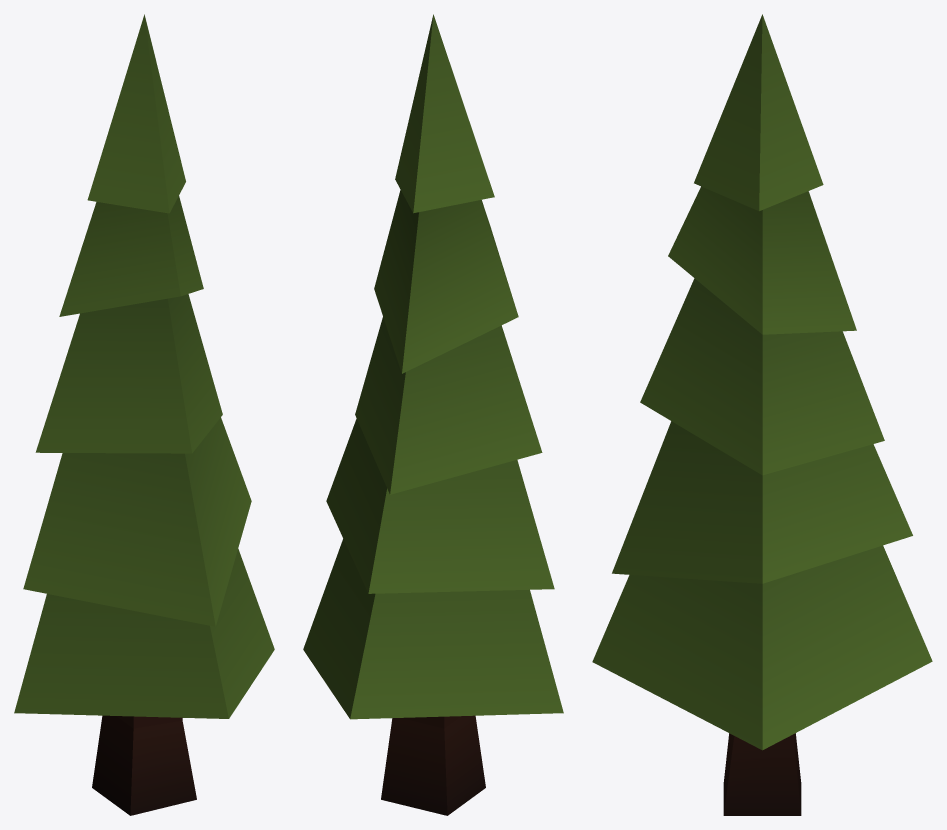
Rendered from PropspolySurface108.fbx.
3 views of the same model, side by side, from view 1: azimuth 30°, elevation 25°; view 2: azimuth 150°, elevation 25°; view 3: azimuth 270°, elevation 25° (orthographic).
Parts seen in each view (by area): view 1: polySurface108; view 2: polySurface108; view 3: polySurface108.
Boxes of the visible parts, x1,y1,x2,y2 form: polySurface108: (14, 14, 274, 815); polySurface108: (303, 14, 563, 815); polySurface108: (592, 14, 932, 815).
Bounding box in the file's own units: 2.89 × 8.26 × 3.25.
